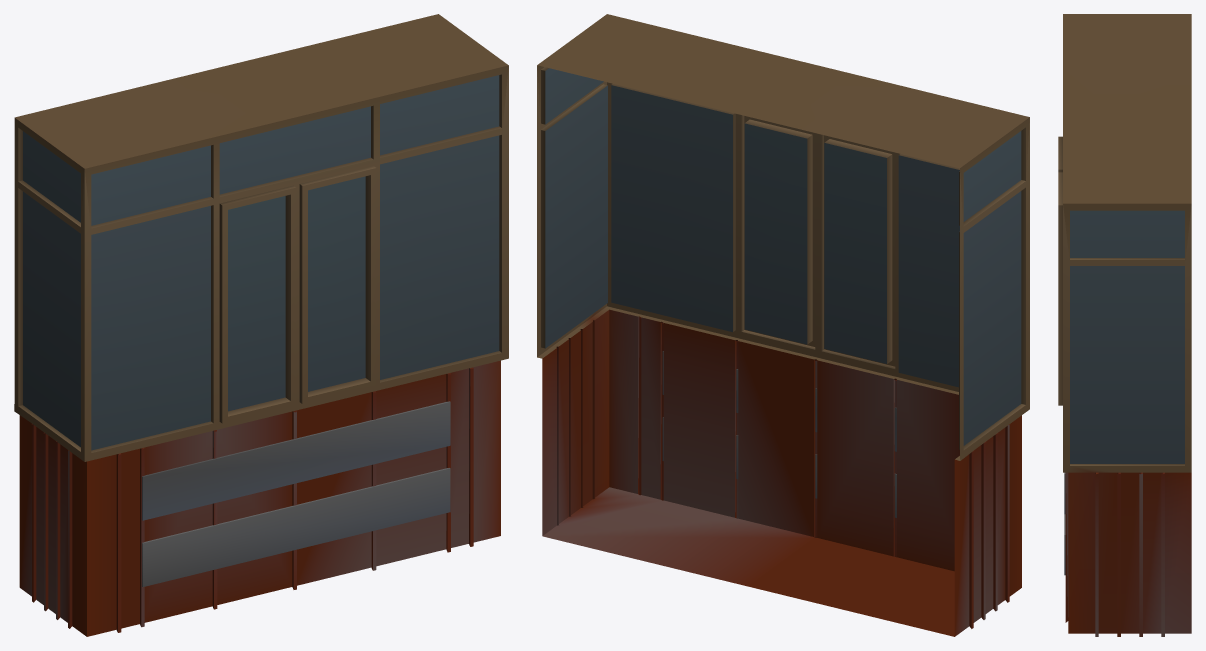
File: The balcony is closed 7.fbx
3 renders of one model, left to right at view 1: azimuth 30°, elevation 25°; view 2: azimuth 150°, elevation 25°; view 3: azimuth 270°, elevation 25°, orthographic. The views are drawn at different scales.
Parts seen in each view (by area): view 1: Cube.504; view 2: Cube.504; view 3: Cube.504.
Part boxes in pixels (x1,y1,x2,y2): Cube.504: [14, 14, 508, 636]; Cube.504: [537, 14, 1029, 636]; Cube.504: [1058, 14, 1191, 636].
Bounding box in the file's own units: 686 × 731 × 204.
